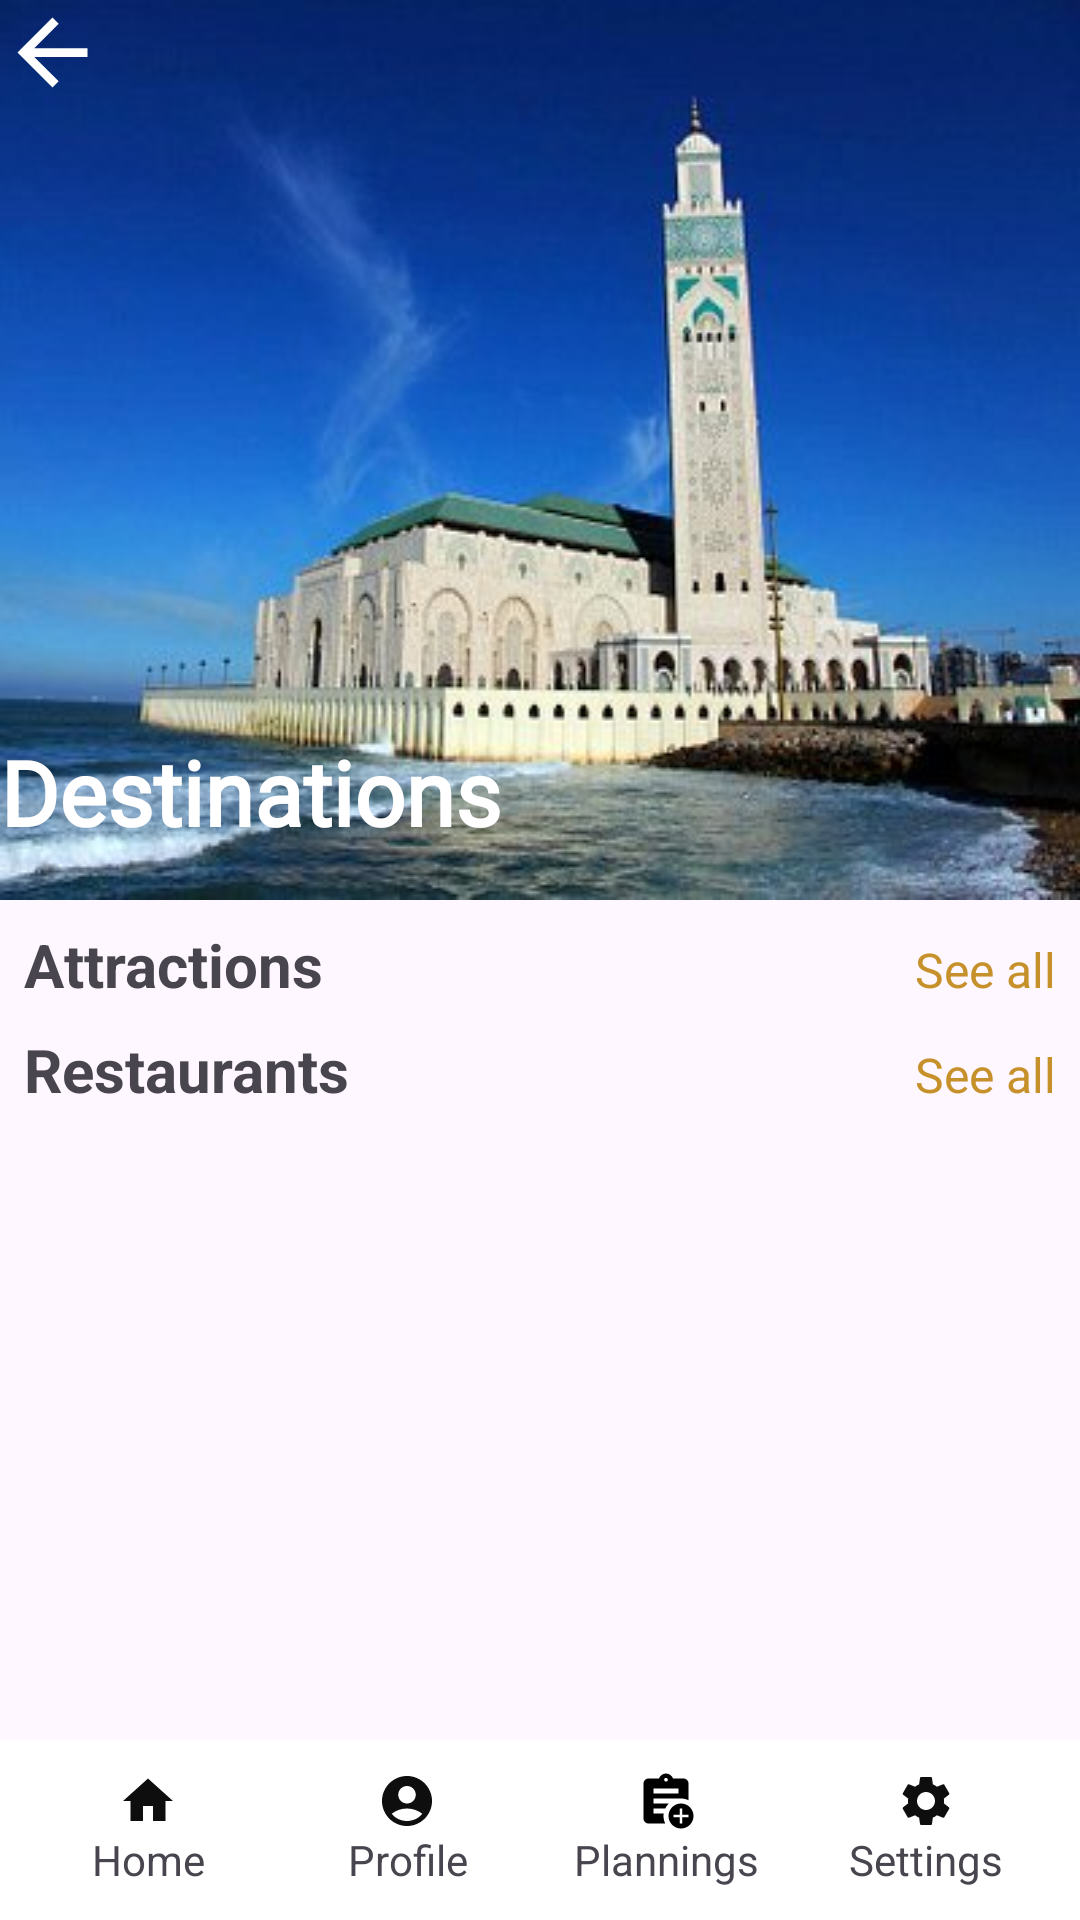

Icon click points for this 1080×1920 phone screenshot, format [x,y]:
account circle: [407,1801]
assignment add: [668,1801]
back: [52,44]
